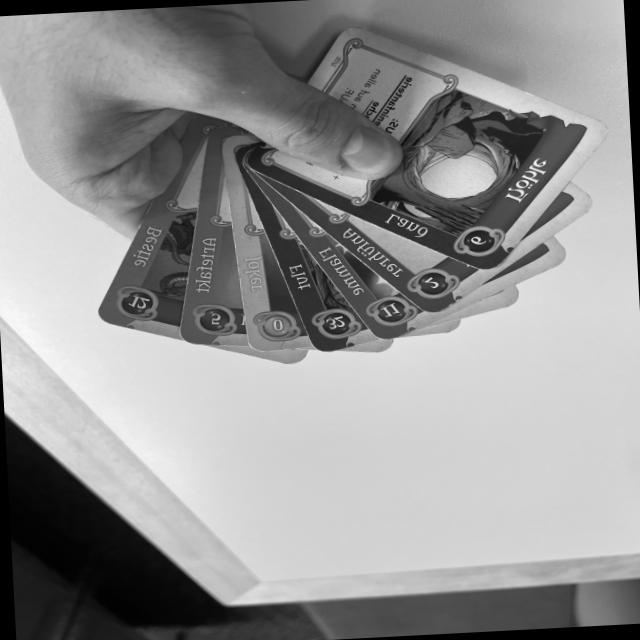Gem Of Order: (179, 140, 248, 347)
Great Flood: (238, 166, 375, 354)
Hydra: (92, 115, 227, 340)
Lightning: (247, 170, 438, 345)
Princess: (254, 172, 496, 316)
Shapeshifter: (223, 151, 312, 352)
Underground Caverns: (245, 22, 617, 273)
